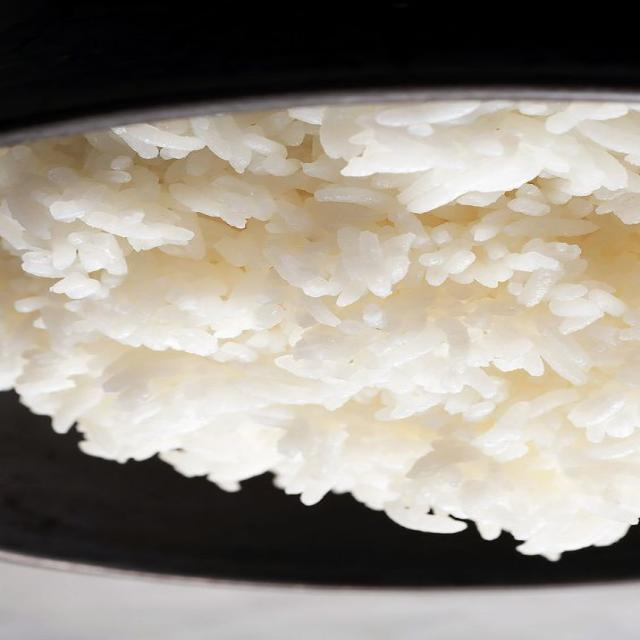nasi_putih: (18, 72, 640, 554)
